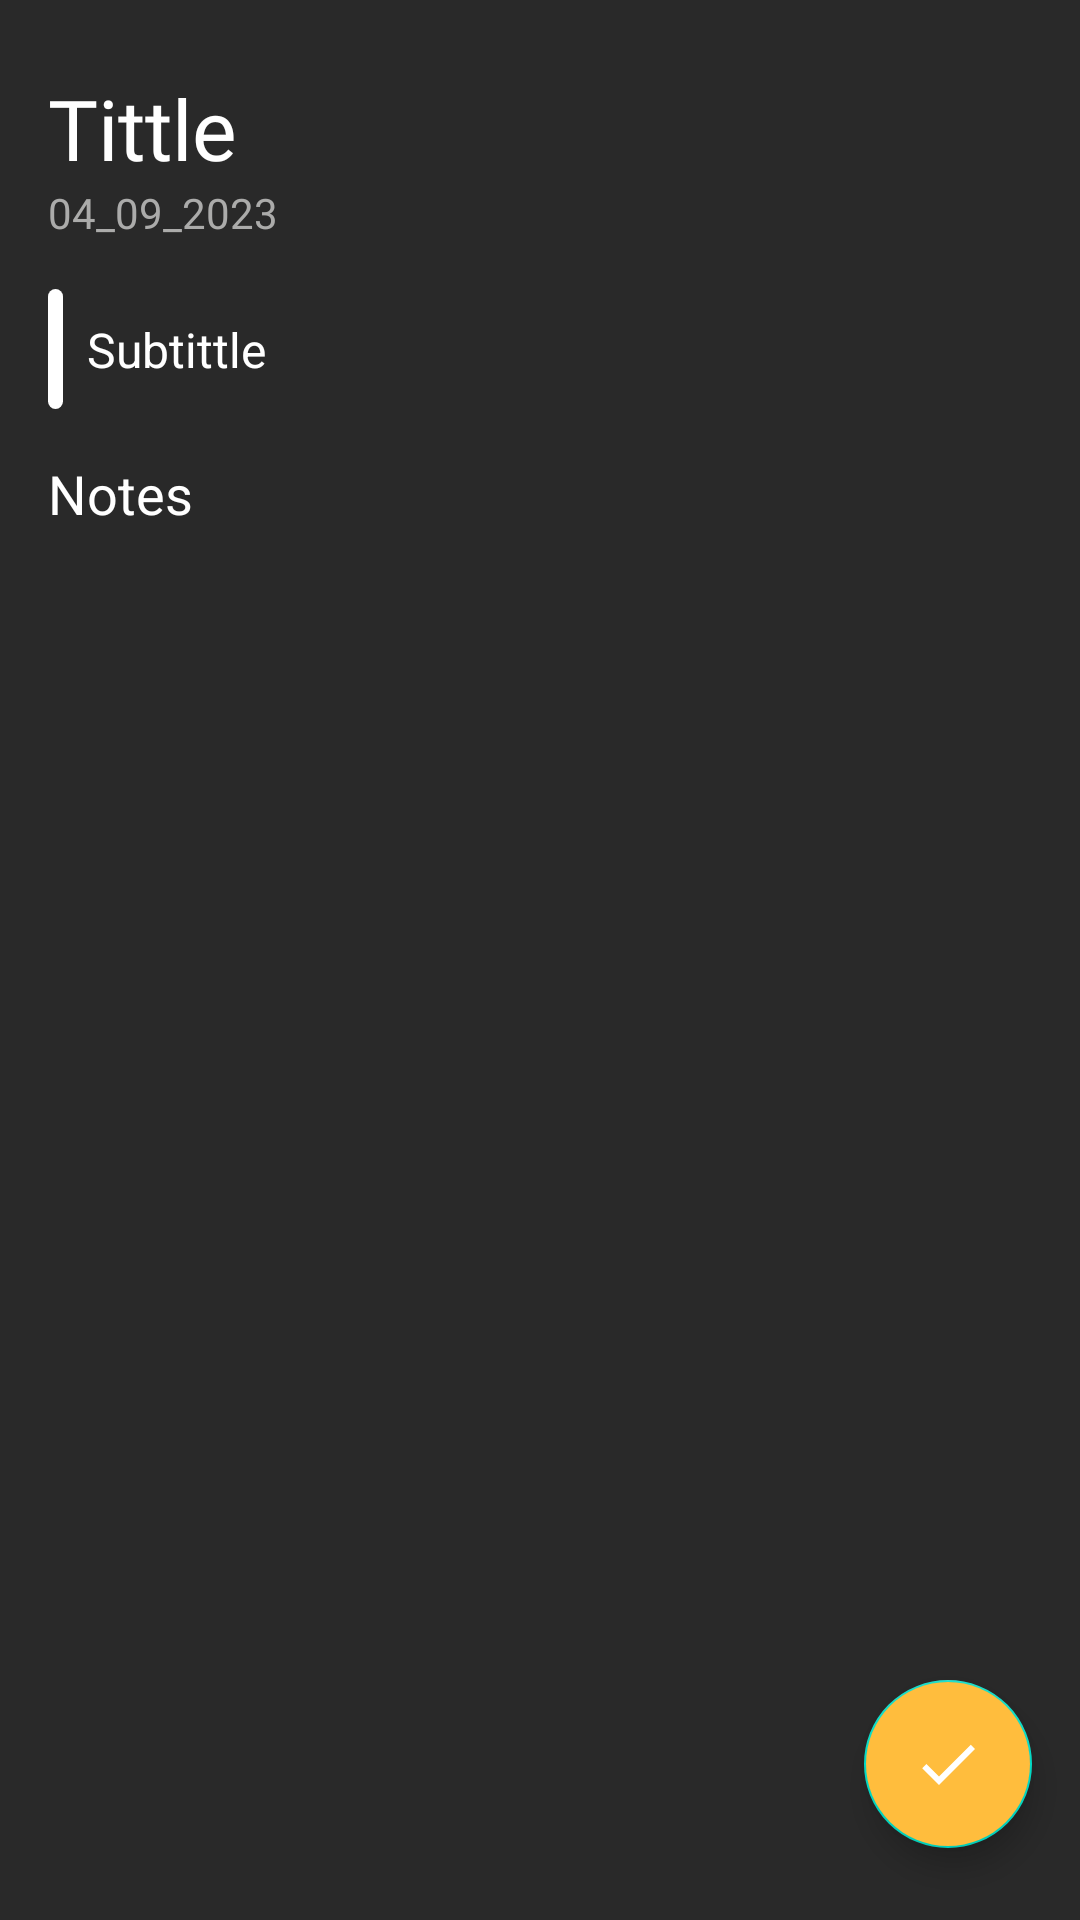

Where icons sit on this 1080 x 1920 app screen, as (x1, y1, x2, y2):
done: (864, 1680, 1032, 1848)
